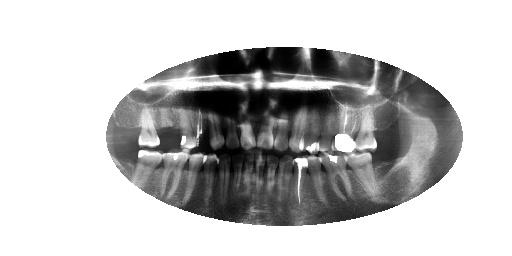Cavity: (231, 151, 244, 206)
Fillings: (126, 145, 164, 189)
Implant: (335, 99, 358, 155), (291, 157, 308, 207)
